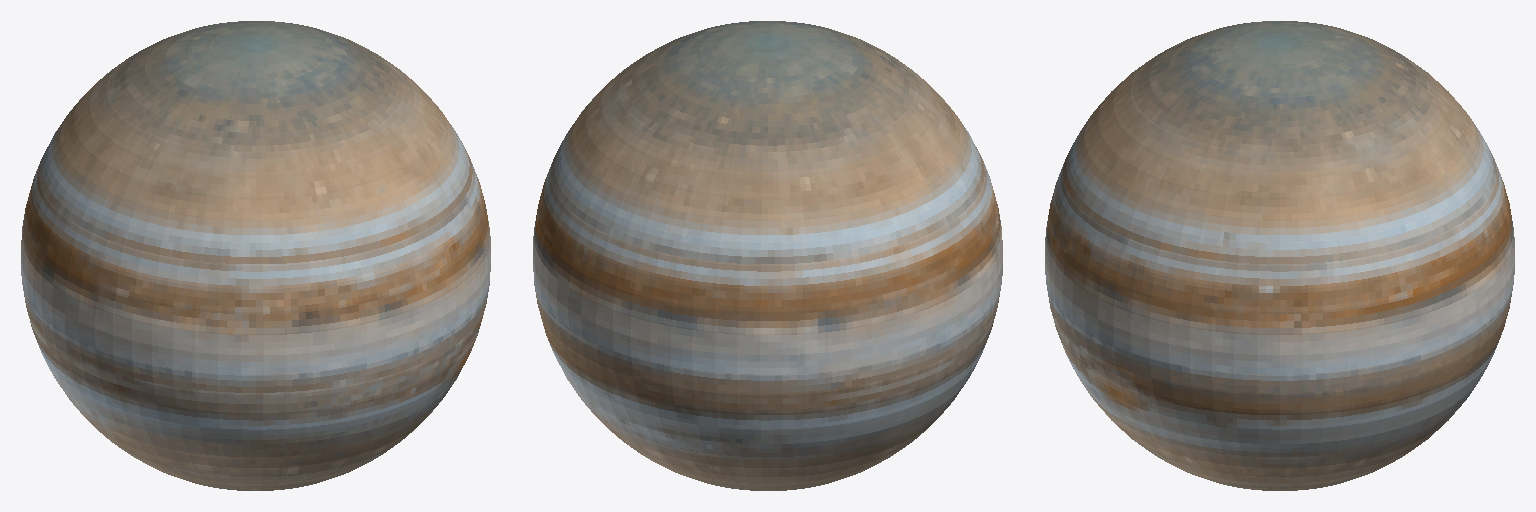
3 renders of one model, left to right at view 1: azimuth 30°, elevation 25°; view 2: azimuth 150°, elevation 25°; view 3: azimuth 270°, elevation 25°, orthographic.
Visible parts, largest first — view 1: Sphere; view 2: Sphere; view 3: Sphere.
Part boxes in pixels (x1,y1,x2,y2): Sphere: (21, 21, 490, 490); Sphere: (533, 21, 1002, 490); Sphere: (1045, 21, 1514, 490).
Size of the model in its own units: 2 by 2 by 2.
Materials: 1 (1 with a texture image).